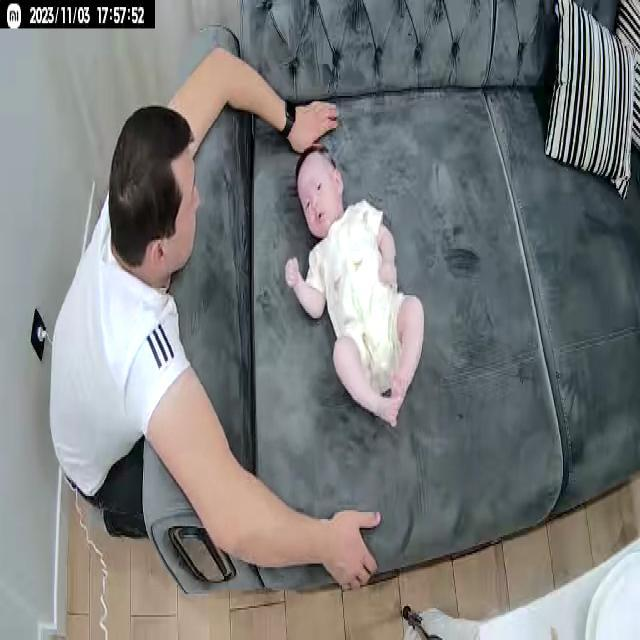baby: (284, 143, 427, 433)
